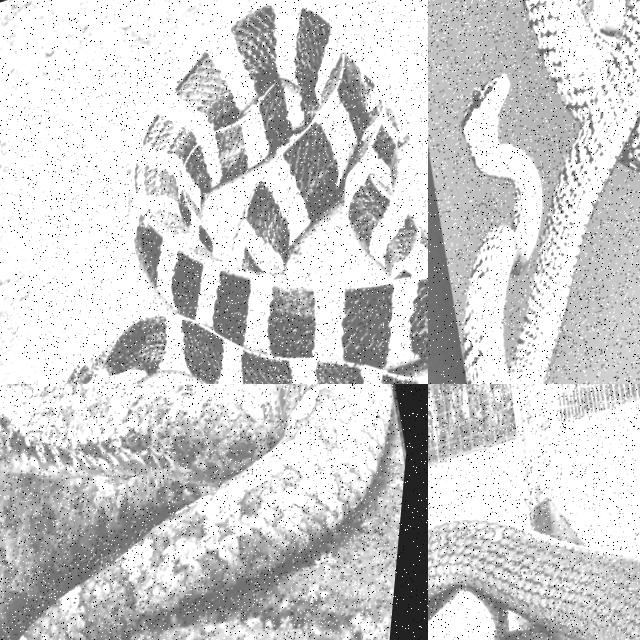Bungarus fasciatus: (66, 4, 427, 383)
Chrysopelea ornata: (463, 0, 639, 383)
Ophiophagus hannah: (428, 520, 639, 639)
Ovophis monticola: (0, 384, 390, 639)
snake: (66, 4, 427, 383), (0, 384, 390, 639), (463, 0, 639, 383), (428, 520, 639, 639)
